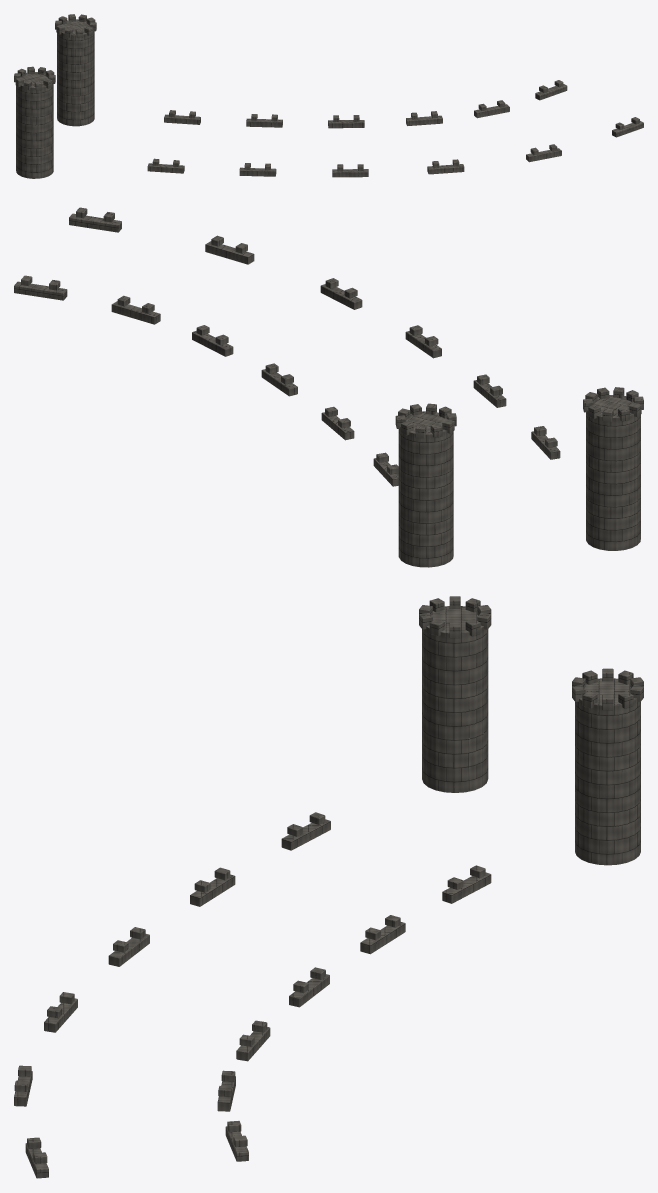
File: Sector7_CitadelStone_1.fbx
The picture shows the model from 3 angles, top to bottom: view 1: azimuth 30°, elevation 25°; view 2: azimuth 150°, elevation 25°; view 3: azimuth 270°, elevation 25°; orthographic projection. The views are drawn at different scales.
Visible parts, largest first — view 1: Sector7_CitadelStone_1; view 2: Sector7_CitadelStone_1; view 3: Sector7_CitadelStone_1.
Part boxes in pixels (bbox=[...]): Sector7_CitadelStone_1: bbox=[14, 14, 643, 178]; Sector7_CitadelStone_1: bbox=[14, 207, 643, 567]; Sector7_CitadelStone_1: bbox=[14, 596, 643, 1178].
Size of the model in its own units: 40297 by 7250 by 24708.
Materials: 1 (1 with a texture image).
